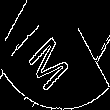M_NE: (30, 21, 80, 89)
